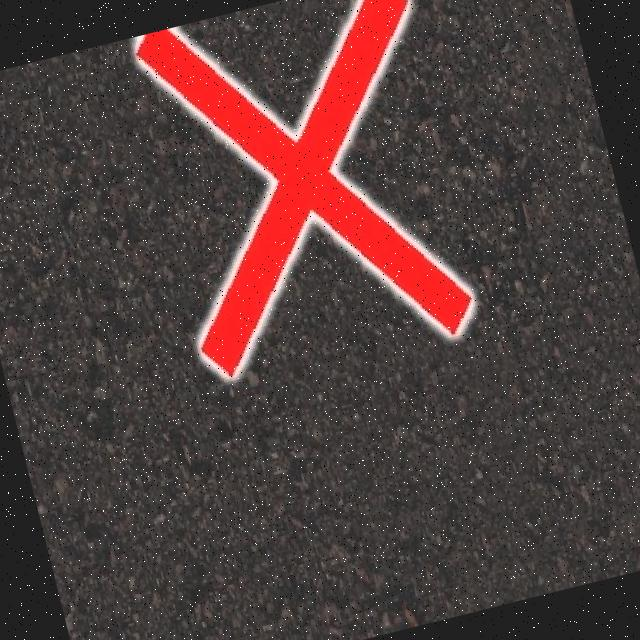x_marker: (123, 0, 486, 391)
